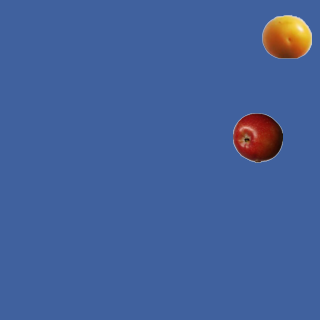Apple Braeburn: (232, 112, 282, 162)
Cherry Wax Yellow: (261, 11, 311, 61)
